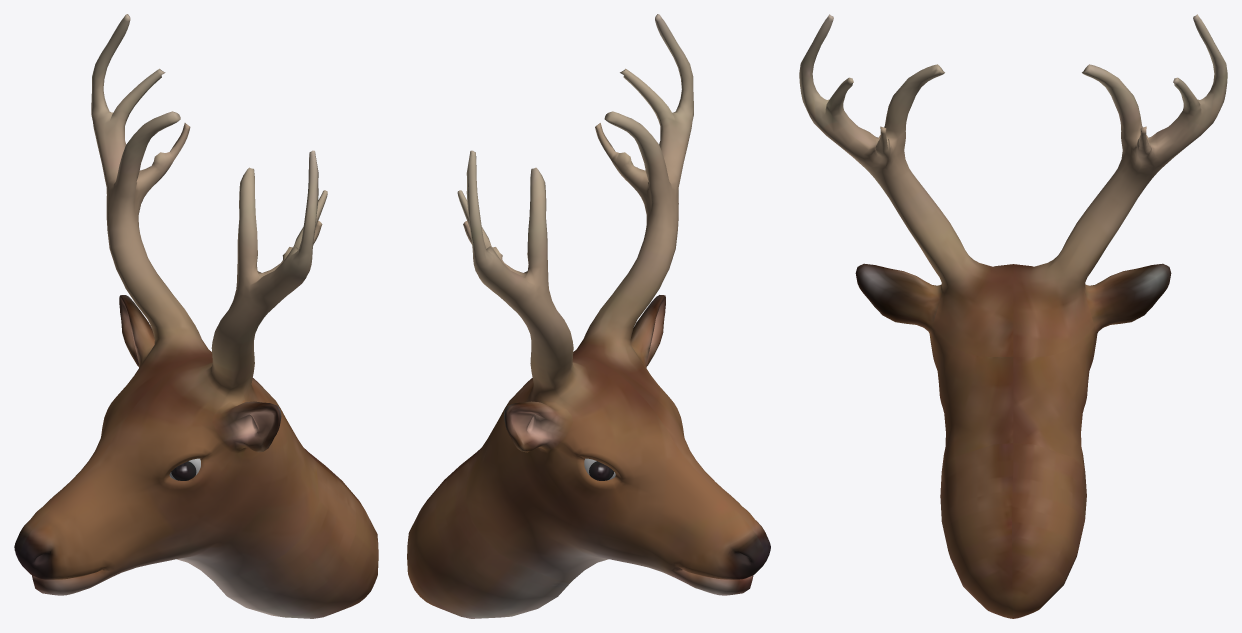
File: Deer_Head_0.FBX
3 views of the same model, side by side, from view 1: azimuth 30°, elevation 25°; view 2: azimuth 150°, elevation 25°; view 3: azimuth 270°, elevation 25° (orthographic).
Visible parts, largest first — view 1: Deer_Head_0; view 2: Deer_Head_0; view 3: Deer_Head_0.
Part boxes in pixels (x1,y1,x2,y2): Deer_Head_0: (14,14,378,618); Deer_Head_0: (407,14,770,618); Deer_Head_0: (799,14,1227,618).
Size of the model in its own units: 1.99 by 2.98 by 2.11.
